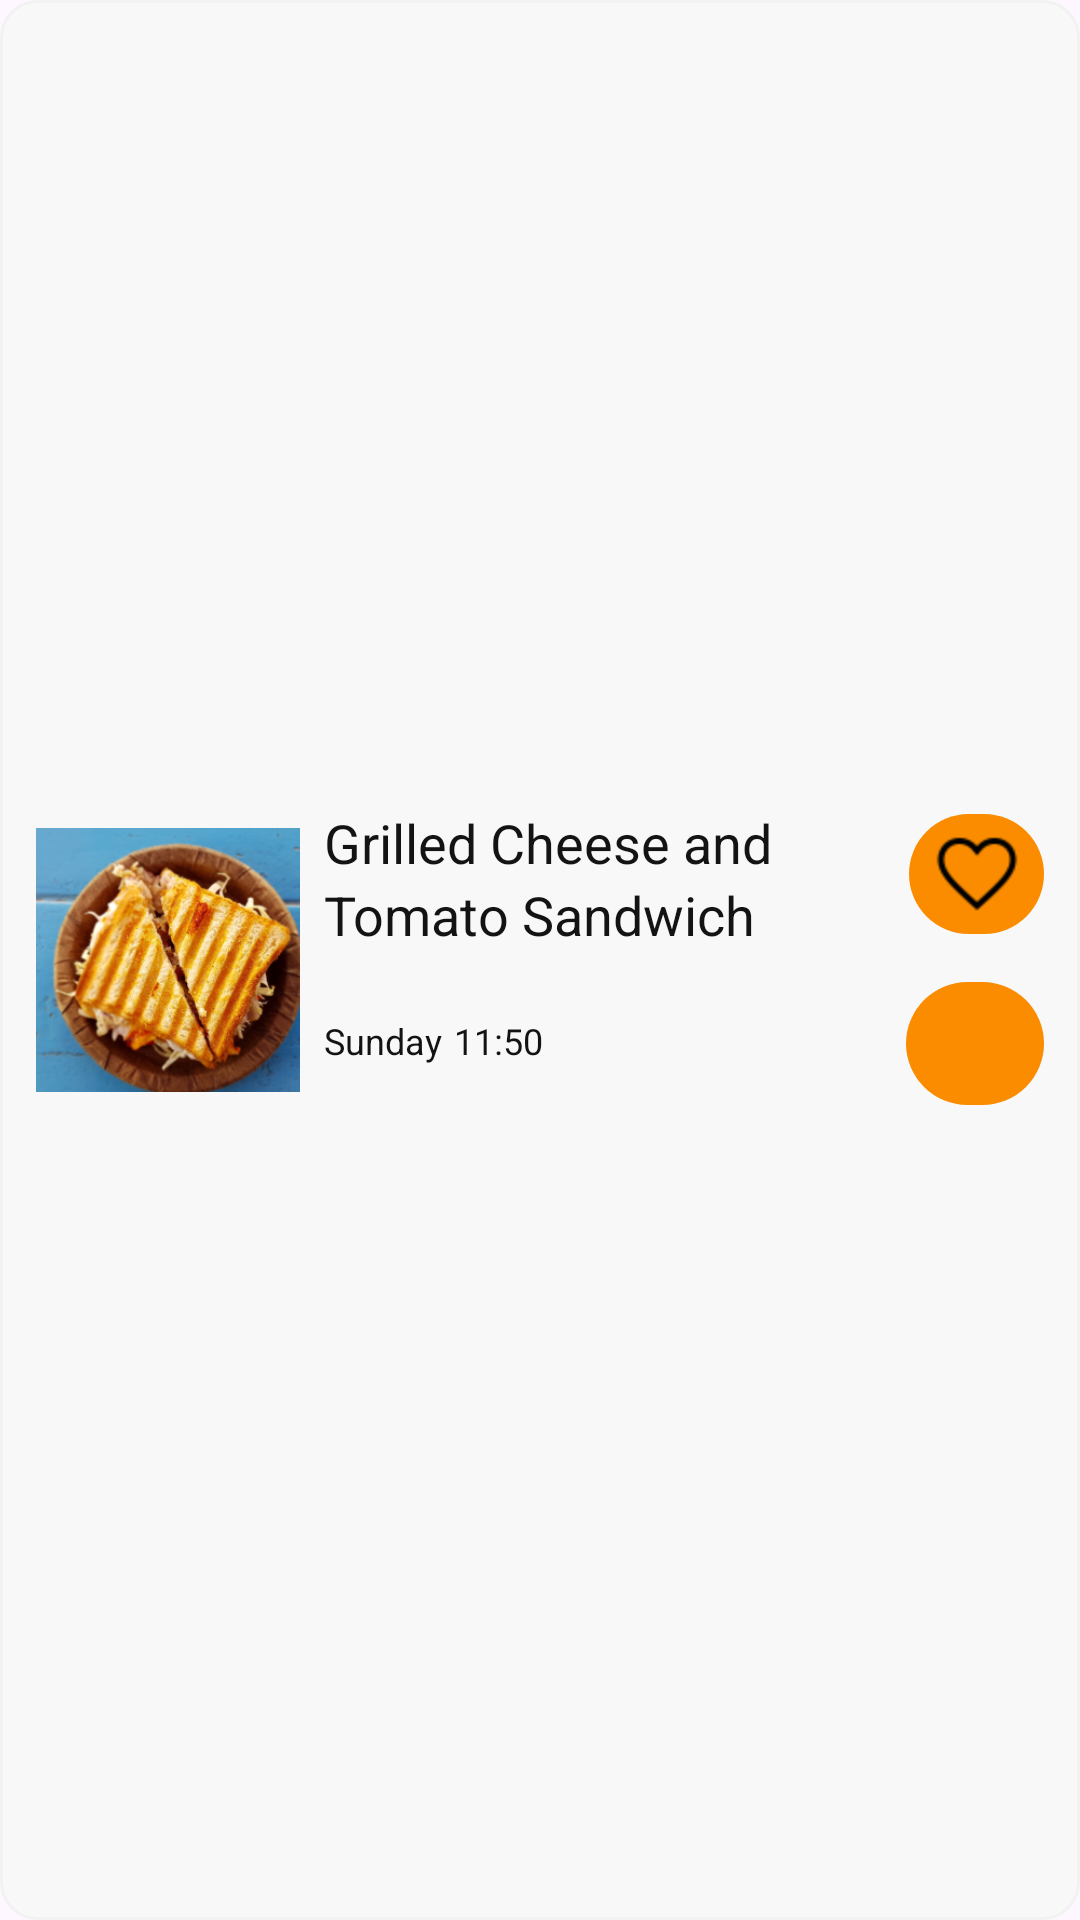

Icons on this 1080x1920 Android screen, each with its box as [left=x1, top=y1, right=x2, bottom=y2]:
fav: [left=936, top=837, right=1018, bottom=911]
